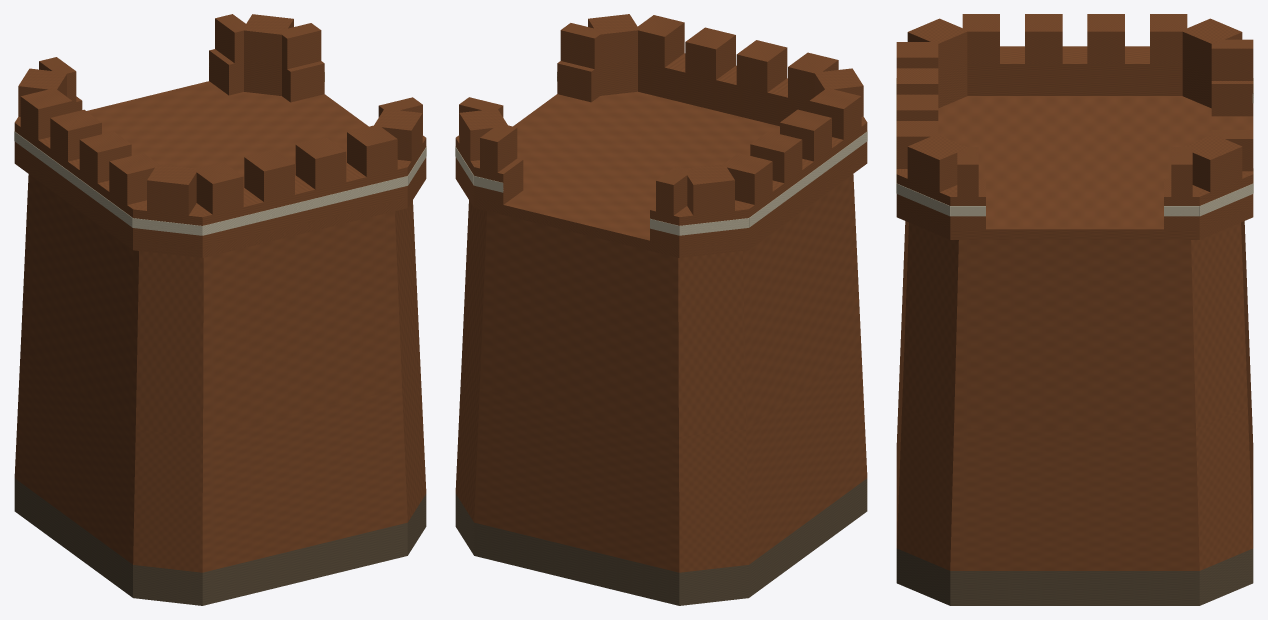
The model's file is Berber_Bastion_Age2_corner.fbx.
3 views of the same model, side by side, from view 1: azimuth 30°, elevation 25°; view 2: azimuth 150°, elevation 25°; view 3: azimuth 270°, elevation 25° (orthographic). The views are drawn at different scales.
Visible parts, largest first — view 1: corner_battered_upper, corner_battered_lower, corner_continuous_walk_floor, corner_stone_foot, corner_guard_0_0, corner_guard_6_0, corner_merlon_7_0_0, corner_merlon_0_0_2, corner_merlon_0_0_3, corner_merlon_0_0_1, corner_owner_band_0_0, corner_merlon_0_0_0 (+16 smaller); view 2: corner_battered_upper, corner_battered_lower, corner_continuous_walk_floor, corner_stone_foot, corner_guard_0_0, corner_guard_6_0, corner_merlon_0_0_1, corner_merlon_5_0_0, corner_merlon_0_0_2, corner_merlon_0_0_3, corner_merlon_1_0_0, corner_merlon_6_0_0 (+16 smaller); view 3: corner_battered_upper, corner_battered_lower, corner_continuous_walk_floor, corner_stone_foot, corner_guard_6_0, corner_merlon_1_0_0, corner_merlon_3_0_0, corner_merlon_7_0_0, corner_merlon_6_0_1, corner_merlon_6_0_2, corner_merlon_5_0_0, corner_merlon_4_1_0 (+18 smaller).
Boxes of the visible parts, box(x1,y1,x2,y2) form: corner_battered_upper: box(21, 174, 420, 436); corner_battered_lower: box(14, 345, 426, 572); corner_continuous_walk_floor: box(14, 81, 426, 257); corner_stone_foot: box(14, 478, 426, 605); corner_guard_0_0: box(192, 160, 407, 247); corner_guard_6_0: box(14, 121, 146, 239); corner_merlon_7_0_0: box(147, 164, 197, 215); corner_merlon_0_0_2: box(295, 137, 346, 189); corner_merlon_0_0_3: box(347, 124, 397, 176); corner_merlon_0_0_1: box(244, 149, 294, 201); corner_owner_band_0_0: box(202, 176, 407, 235); corner_merlon_0_0_0: box(193, 162, 243, 214); corner_battered_upper: box(461, 174, 861, 436); corner_battered_lower: box(455, 345, 867, 572); corner_continuous_walk_floor: box(455, 91, 867, 257); corner_stone_foot: box(455, 478, 867, 605); corner_guard_0_0: box(638, 53, 809, 126); corner_guard_6_0: box(735, 121, 867, 239); corner_merlon_0_0_1: box(736, 40, 787, 92); corner_merlon_5_0_0: box(685, 164, 734, 215); corner_merlon_0_0_2: box(685, 27, 735, 79); corner_merlon_0_0_3: box(634, 15, 684, 67); corner_merlon_1_0_0: box(588, 14, 638, 65); corner_merlon_6_0_0: box(721, 153, 772, 204); corner_battered_upper: box(902, 221, 1247, 428); corner_battered_lower: box(896, 313, 1253, 570); corner_continuous_walk_floor: box(896, 96, 1253, 239); corner_stone_foot: box(896, 548, 1253, 605); corner_guard_6_0: box(967, 46, 1182, 95); corner_merlon_1_0_0: box(907, 135, 968, 192); corner_merlon_3_0_0: box(1183, 134, 1242, 192); corner_merlon_7_0_0: box(907, 18, 967, 75); corner_merlon_6_0_1: box(1087, 14, 1124, 63); corner_merlon_6_0_2: box(1025, 14, 1062, 63); corner_merlon_5_0_0: box(1182, 18, 1242, 75); corner_merlon_4_1_0: box(1211, 39, 1253, 80).
Bounding box in the file's own units: 601 × 820 × 601.
3 materials, 3 textured.
